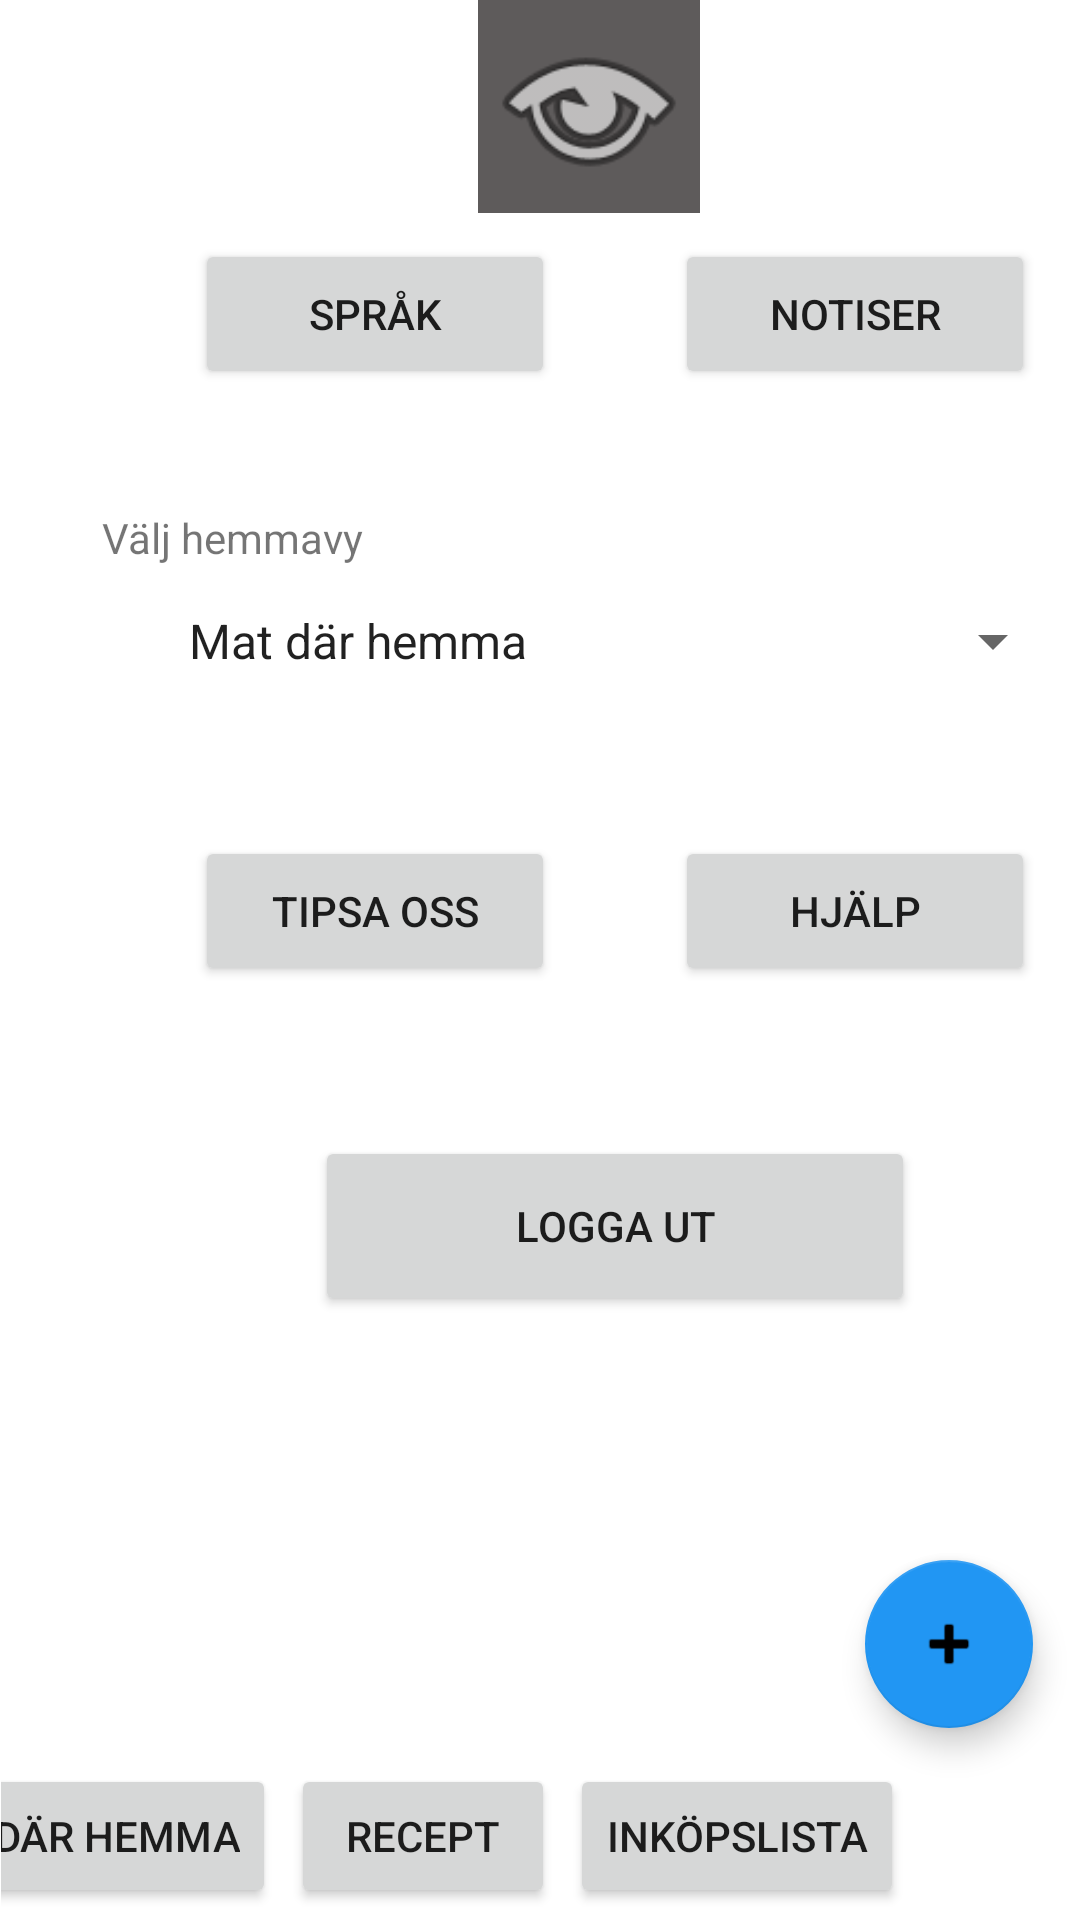

Where icons sit on this 1080w x 1920h app screen, as (x1, y1, x2, y2):
add: (865, 1560, 1033, 1728)
